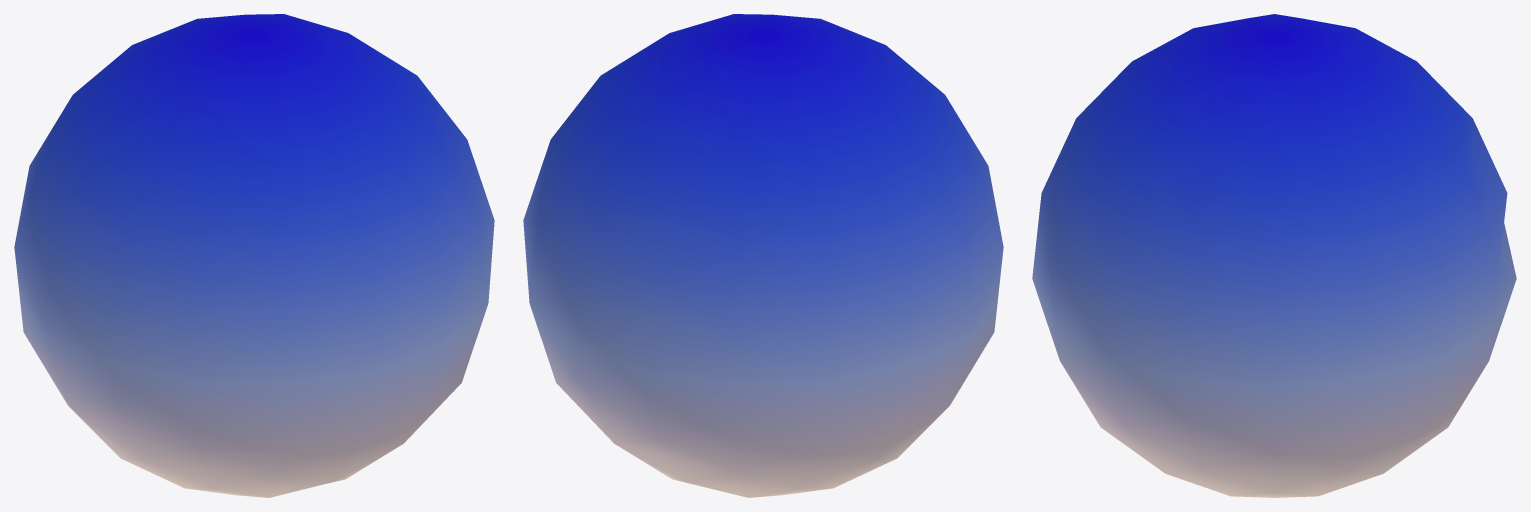
Rendered from train_global.gltf.
3 views of the same model, side by side, from view 1: azimuth 30°, elevation 25°; view 2: azimuth 150°, elevation 25°; view 3: azimuth 270°, elevation 25° (orthographic).
Parts seen in each view (by area): view 1: sky_sphere; view 2: sky_sphere; view 3: sky_sphere.
Boxes of the visible parts, x1,y1,x2,y2 form: sky_sphere: (14,14,494,497); sky_sphere: (523,14,1003,497); sky_sphere: (1032,14,1516,497).
Bounding box in the file's own units: 96.1 × 96.57 × 96.1.
Materials: 32 (9 with a texture image).
